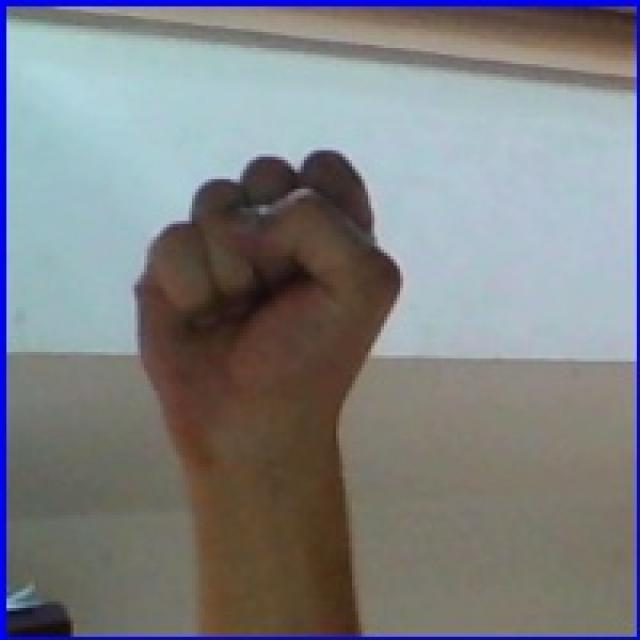S: (78, 113, 486, 633)
